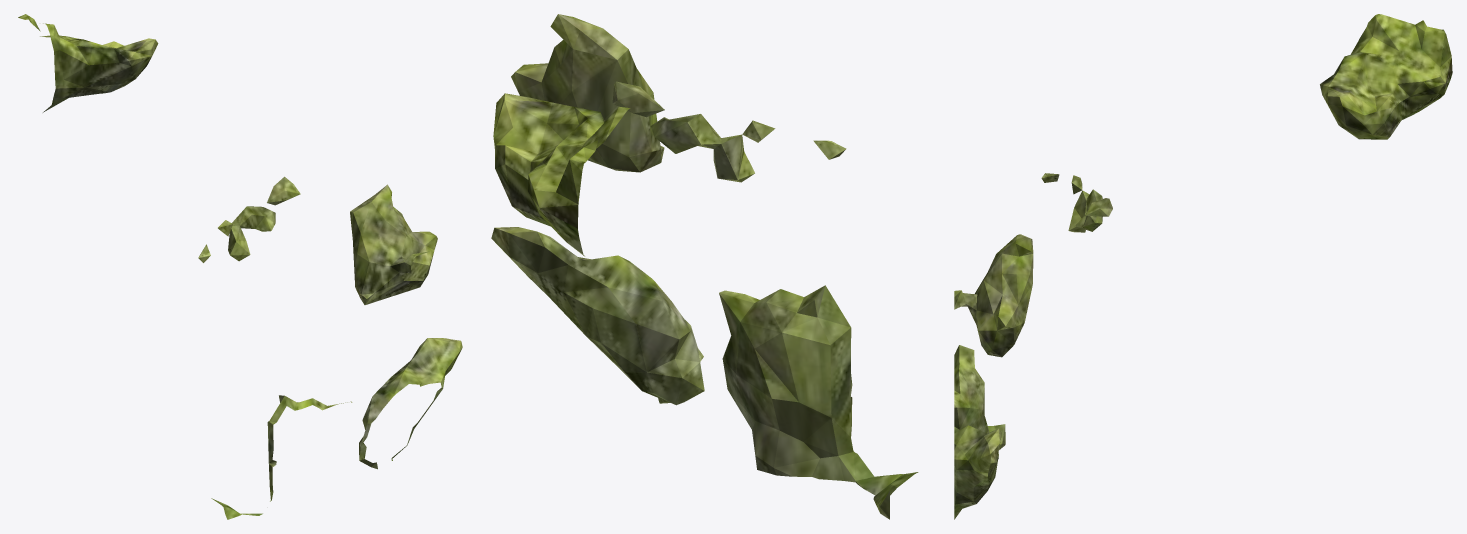
3 renders of one model, left to right at view 1: azimuth 30°, elevation 25°; view 2: azimuth 150°, elevation 25°; view 3: azimuth 270°, elevation 25°, orthographic. The views are drawn at different scales.
Size of the model in its own units: 1.83 by 2.58 by 2.7.
Materials: 1 (1 with a texture image).
